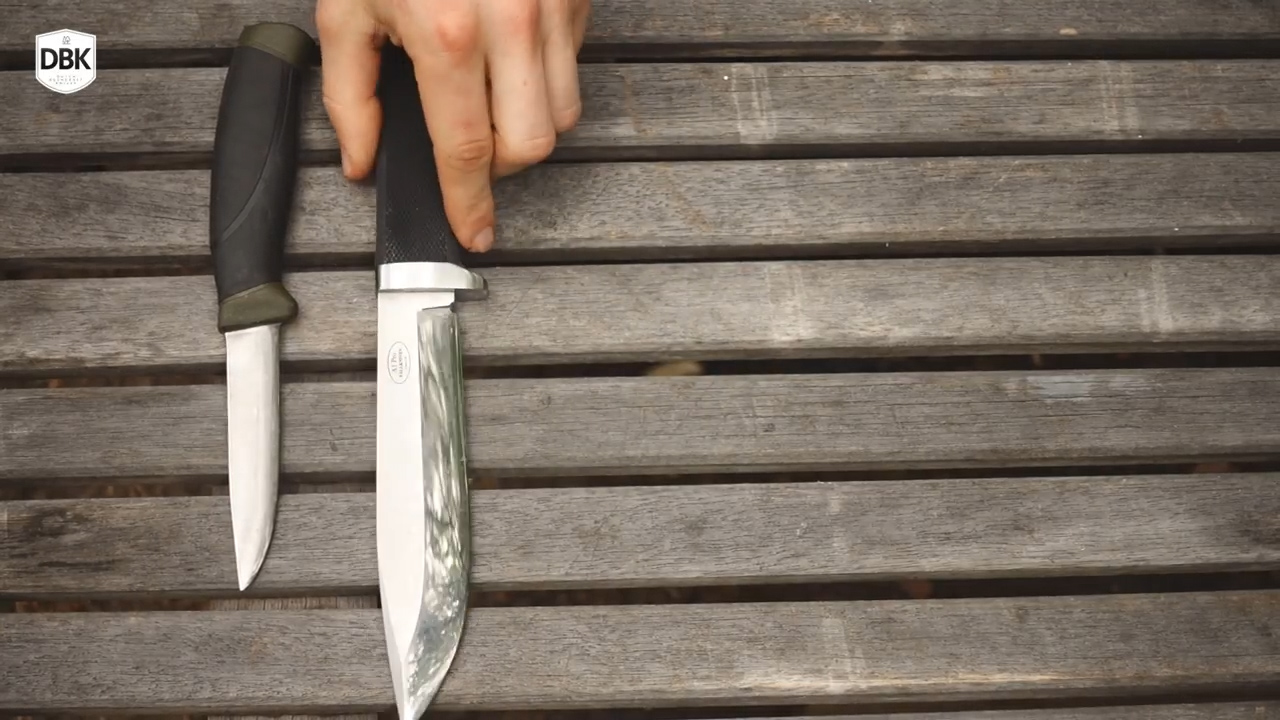knife: (334, 148, 563, 720), (195, 272, 315, 605)
